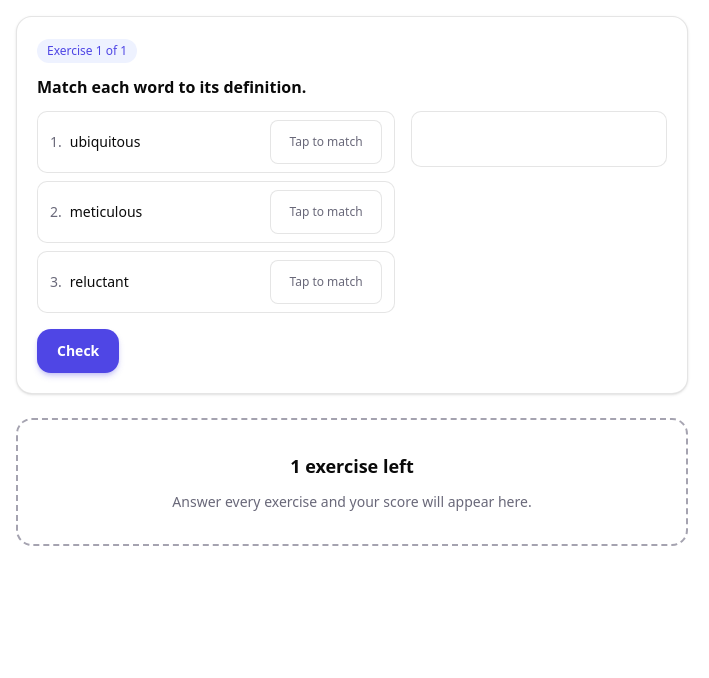
LessonPlayer — practice renderer smoke tests › matching: numbers left rows 1, 2, 3 and shows each wrong pair's own explanation
The width and height of the screenshot is (709, 678).
Submitted with nothing paired — every pair scores incorrect.
Click the button "Check": click(78, 351) top-left (37, 329), bottom-right (119, 373)
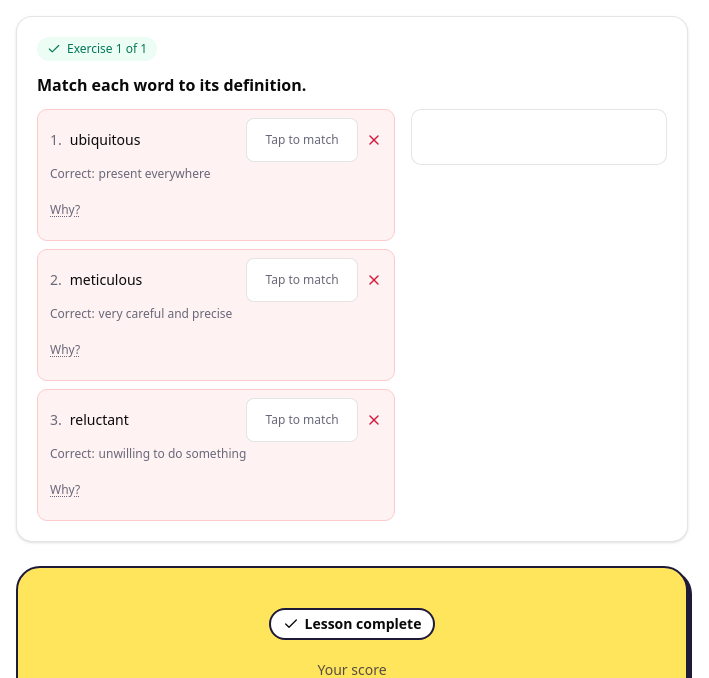
Check: the text "1." is shown, box top-left (50, 130), bottom-right (62, 150)
Check: the number of buttons "Why?" is 3
Click the button "Why?" below "present everywhere": click(65, 210) top-left (42, 188), bottom-right (88, 232)
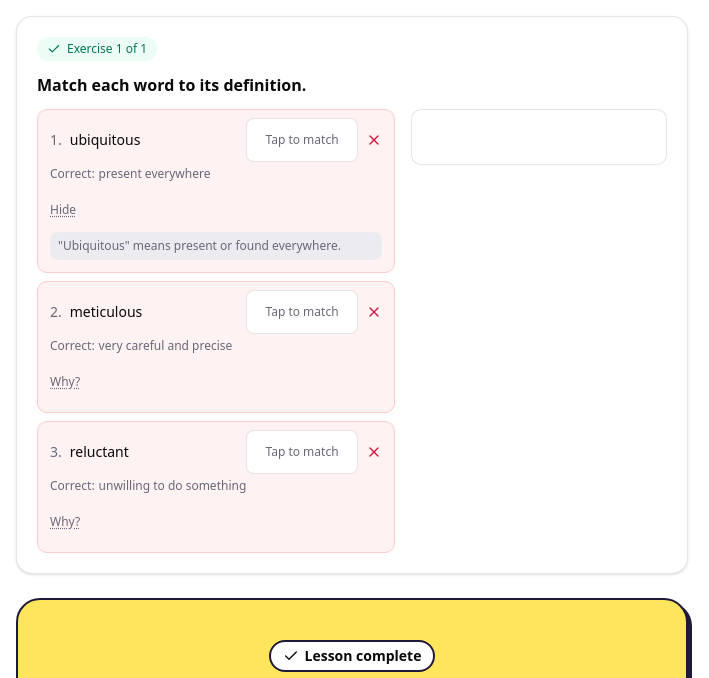
Check: the text "\"Ubiquitous\" means present or found everywhere." is shown, box top-left (50, 232), bottom-right (382, 260)
